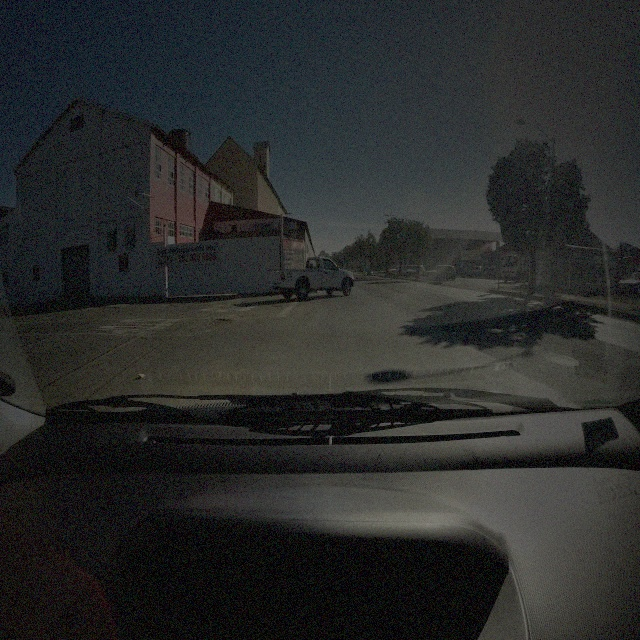pothole: (208, 317, 232, 326), (272, 302, 282, 309)
